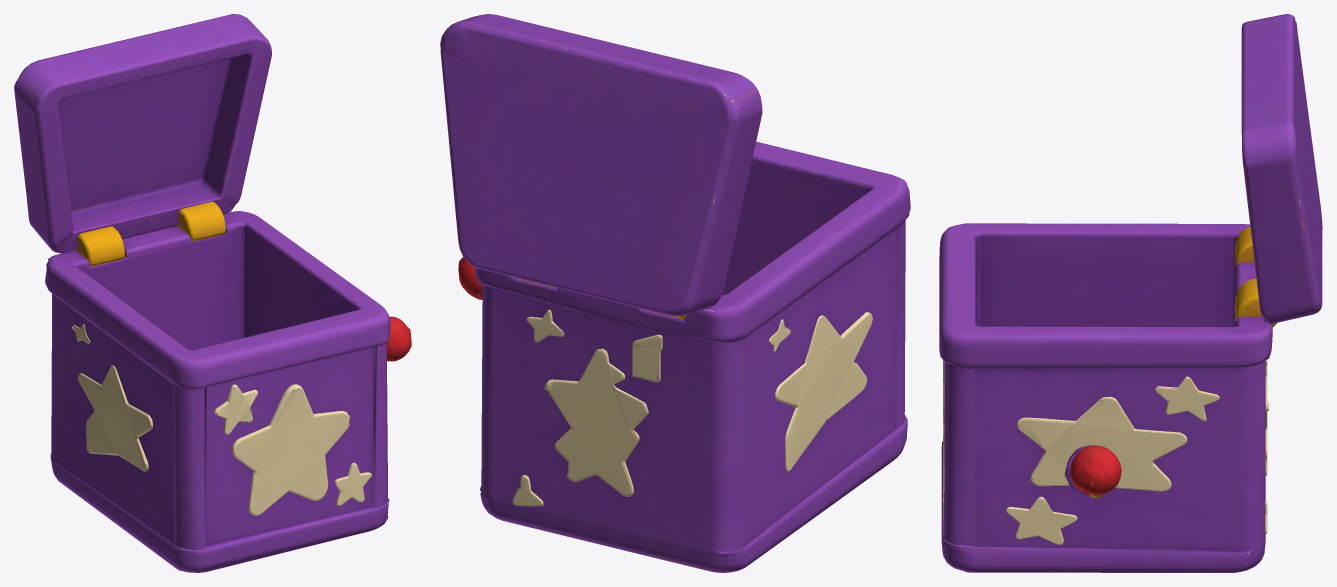
The model's file is jack_box.glb.
The picture shows the model from 3 angles, left to right: view 1: azimuth 30°, elevation 25°; view 2: azimuth 150°, elevation 25°; view 3: azimuth 270°, elevation 25°; orthographic projection. The views are drawn at different scales.
Size of what is drawn, in the model's own units: 0.792 by 1 by 0.7664.
Materials: 1 (1 with a texture image).
